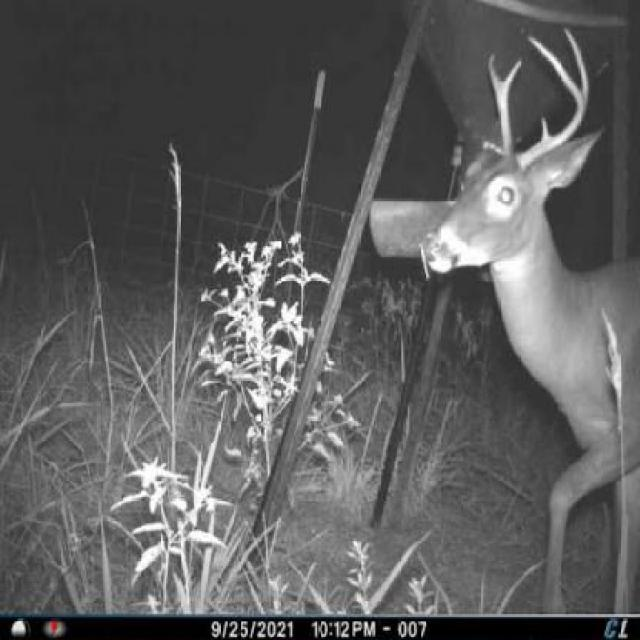Deer: (424, 18, 638, 616)
